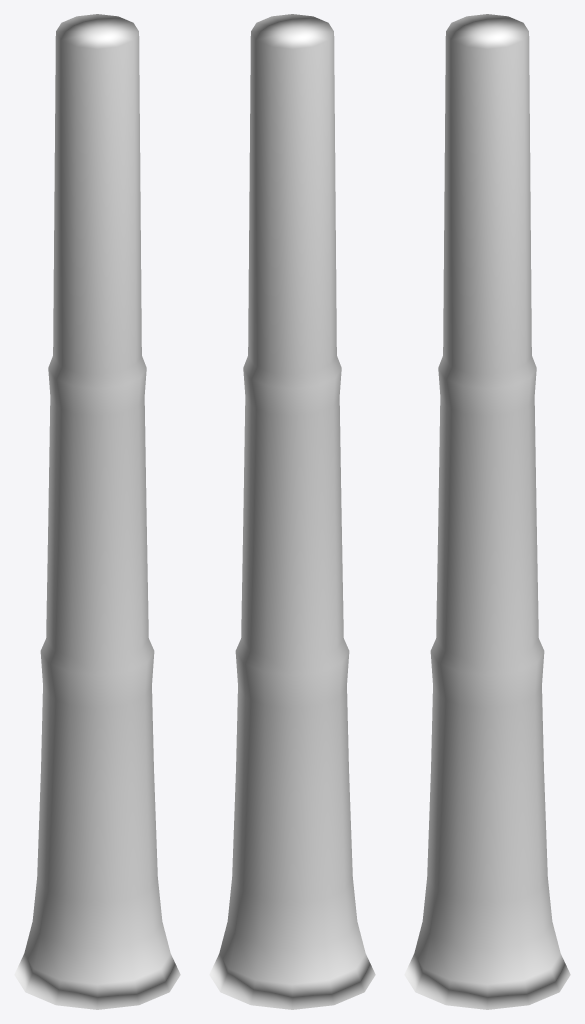
File: pine-trunk-unit-authored-atlas.glb
3 renders of one model, left to right at view 1: azimuth 30°, elevation 25°; view 2: azimuth 150°, elevation 25°; view 3: azimuth 270°, elevation 25°, orthographic.
Parts seen in each view (by area): view 1: Authored surface; view 2: Authored surface; view 3: Authored surface.
Boxes of the visible parts, left/top/right/bottom form: Authored surface: left=14, top=14, right=180, bottom=1009; Authored surface: left=209, top=14, right=375, bottom=1009; Authored surface: left=404, top=14, right=570, bottom=1009.
Bounding box in the file's own units: 0.48 × 3 × 0.48.
1 material, 1 textured.
